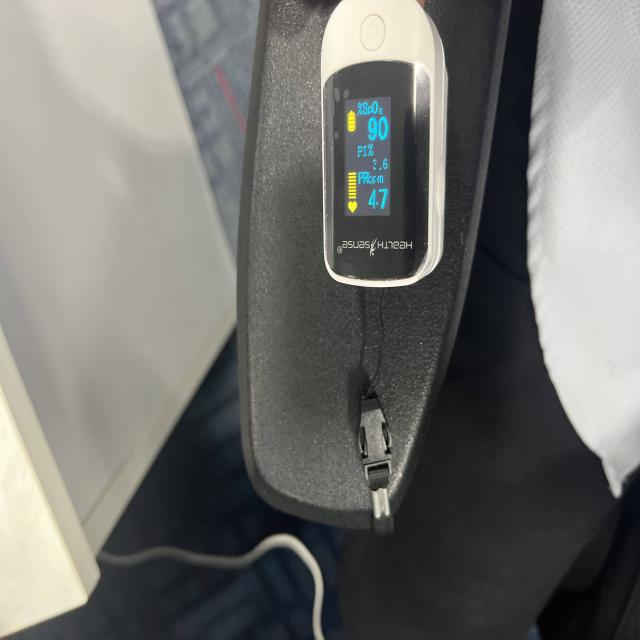spo2: (243, 0, 471, 536)
